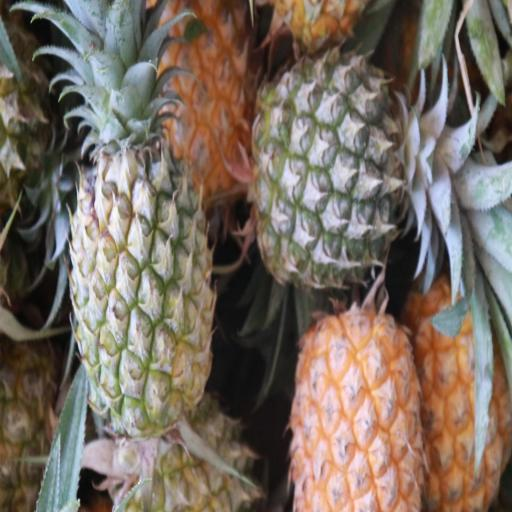Pineapple - v8 v1: (288, 309, 426, 512), (405, 280, 512, 512), (143, 0, 259, 200)
